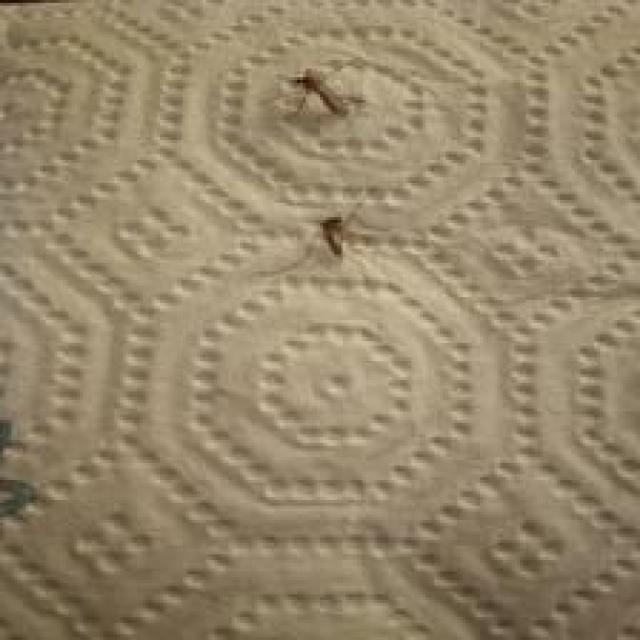Culex: (287, 66, 350, 117)
